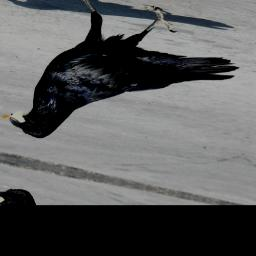Crow: (0, 0, 253, 175)
